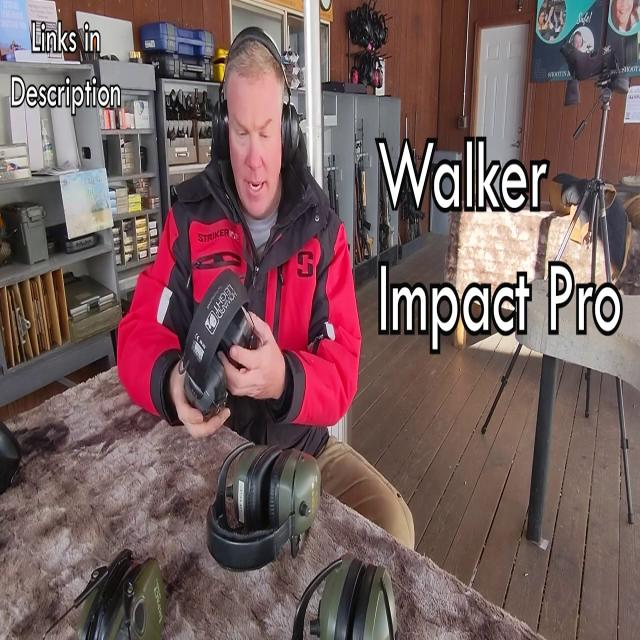earmuff: (279, 100, 305, 168), (209, 98, 234, 164)
